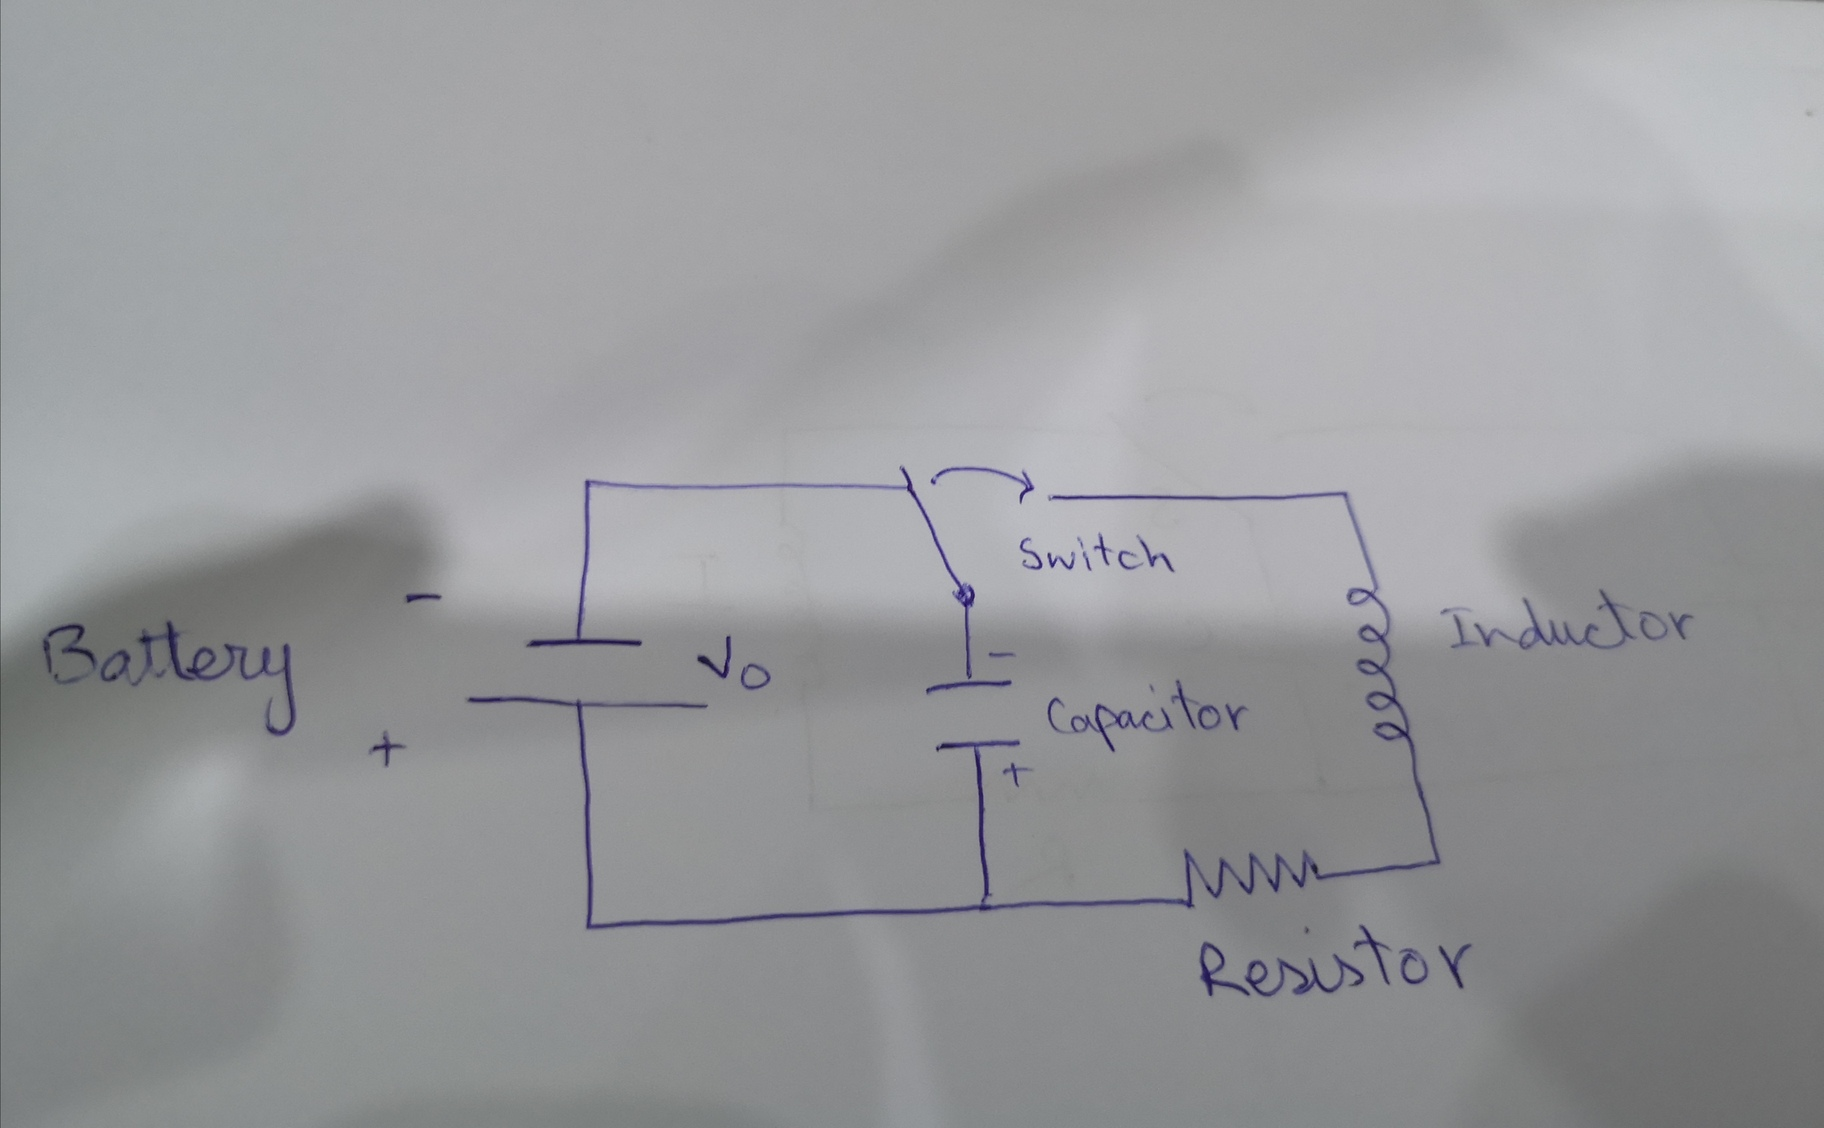capacitor.polarized: (916, 646, 1037, 789)
inductor: (1343, 581, 1414, 746)
junction: (1415, 843, 1455, 879), (571, 468, 606, 503), (969, 886, 1005, 920), (1332, 483, 1359, 509), (578, 910, 603, 939)
resistor: (1176, 844, 1326, 912)
switch: (892, 445, 1061, 615)
text: (36, 613, 309, 741), (1193, 920, 1490, 1006), (1438, 584, 1698, 659), (1040, 670, 1255, 759), (1011, 528, 1187, 576), (691, 628, 779, 697)
voltage.dc: (459, 627, 717, 728)
